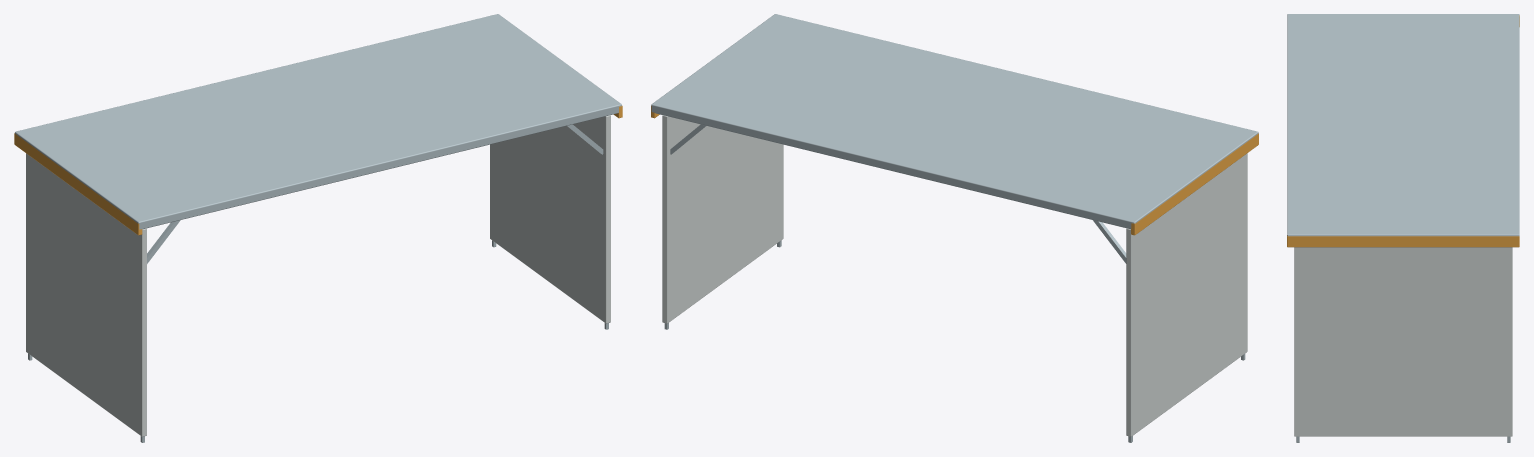
File: data-centre-infiltration-kit-data-centre-infiltration--ef75ea3e__29273.glb
The picture shows the model from 3 angles, left to right: view 1: azimuth 30°, elevation 25°; view 2: azimuth 150°, elevation 25°; view 3: azimuth 270°, elevation 25°; orthographic projection. The views are drawn at different scales.
Visible parts, largest first — view 1: data-centre-infiltration-kit-service-canopy; view 2: data-centre-infiltration-kit-service-canopy; view 3: data-centre-infiltration-kit-service-canopy.
Boxes of the visible parts, bbox=[...] form: data-centre-infiltration-kit-service-canopy: bbox=[14, 14, 622, 442]; data-centre-infiltration-kit-service-canopy: bbox=[651, 14, 1258, 442]; data-centre-infiltration-kit-service-canopy: bbox=[1287, 14, 1519, 442].
Size of the model in its own units: 7.2 by 3.22 by 3.2.
